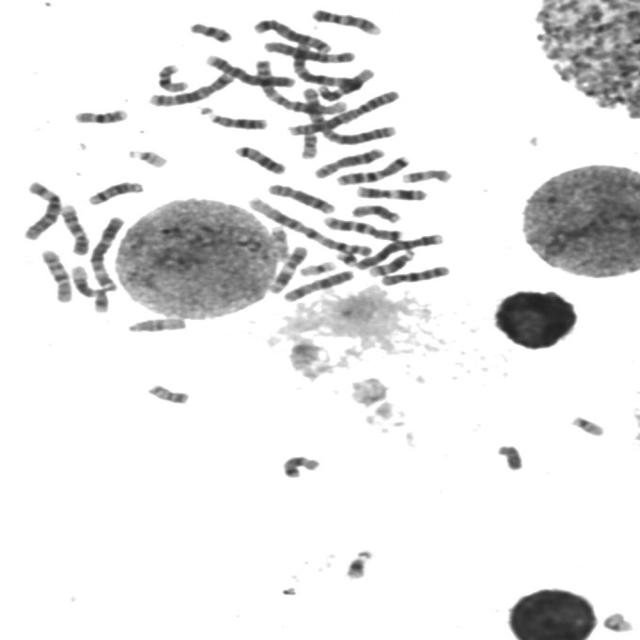A1: (242, 194, 375, 258), (248, 54, 353, 115)
A2: (286, 86, 400, 142), (283, 85, 402, 138)
A3: (286, 35, 362, 89), (84, 212, 128, 293)
B4: (352, 230, 446, 272), (200, 50, 298, 89)
B5: (144, 68, 238, 108), (248, 14, 335, 55)
C10: (36, 246, 74, 304), (376, 262, 452, 288)
C11: (264, 242, 309, 294), (350, 182, 430, 202)
C12: (66, 261, 111, 313), (313, 64, 375, 101)
C6: (17, 177, 64, 241), (259, 37, 358, 64)
C7: (330, 152, 412, 186), (319, 213, 406, 242)
C8: (308, 144, 387, 179), (262, 180, 338, 214)
C9: (306, 4, 384, 36), (56, 201, 90, 256)
D13: (229, 142, 288, 176), (196, 104, 270, 131)
D14: (82, 178, 146, 206), (363, 245, 417, 278)
D15: (122, 313, 189, 334), (348, 201, 403, 224)
E16: (68, 104, 130, 125), (152, 60, 191, 93)
E17: (397, 165, 454, 184), (267, 222, 291, 262)
E18: (184, 18, 234, 44), (278, 452, 322, 479)
F19: (598, 607, 637, 634), (295, 257, 338, 277)
F20: (142, 380, 192, 406), (297, 129, 320, 159)
G21: (338, 544, 376, 581), (331, 247, 360, 268)
G22: (122, 145, 169, 169), (566, 412, 607, 438)
X: (278, 266, 357, 303)
Y: (492, 440, 526, 471)
